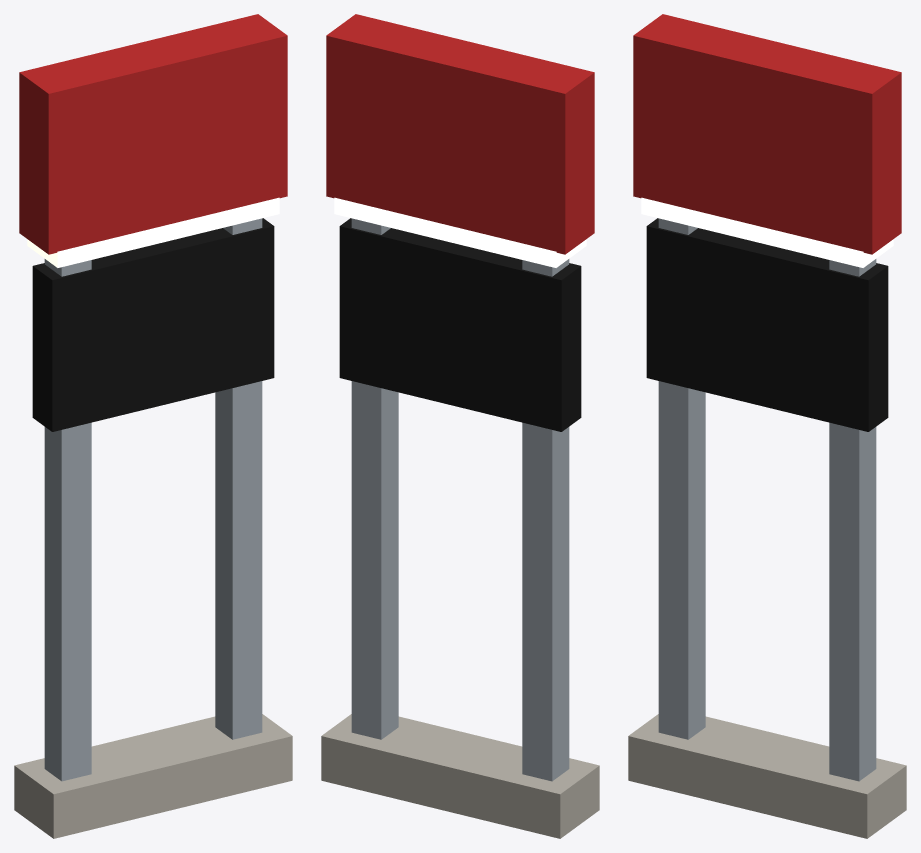
File: exits_pylon.glb
The picture shows the model from 3 angles, left to right: view 1: azimuth 30°, elevation 25°; view 2: azimuth 150°, elevation 25°; view 3: azimuth 330°, elevation 25°; orthographic projection.
Visible parts, largest first — view 1: ExitsPylon_body; view 2: ExitsPylon_body; view 3: ExitsPylon_body.
Part boxes in pixels (x1,y1,x2,y2): ExitsPylon_body: [14, 14, 292, 838]; ExitsPylon_body: [321, 14, 599, 838]; ExitsPylon_body: [628, 14, 906, 838].
Bounding box in the file's own units: 2.8 × 8.3 × 0.8.
